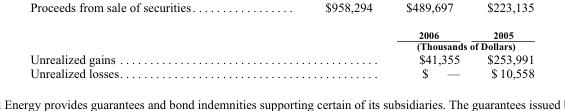table: (29, 29, 533, 79)
table column: (29, 29, 269, 79), (269, 29, 472, 79), (472, 29, 533, 79)
table column header: (29, 29, 533, 51)
table row: (29, 51, 533, 65), (29, 65, 533, 79), (29, 29, 533, 40), (29, 40, 533, 51)
table spanning cell: (269, 40, 533, 51)
